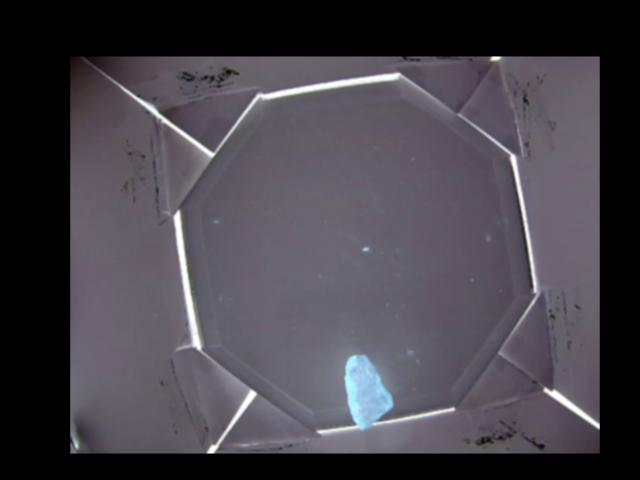Brisk: (344, 352, 391, 430)
